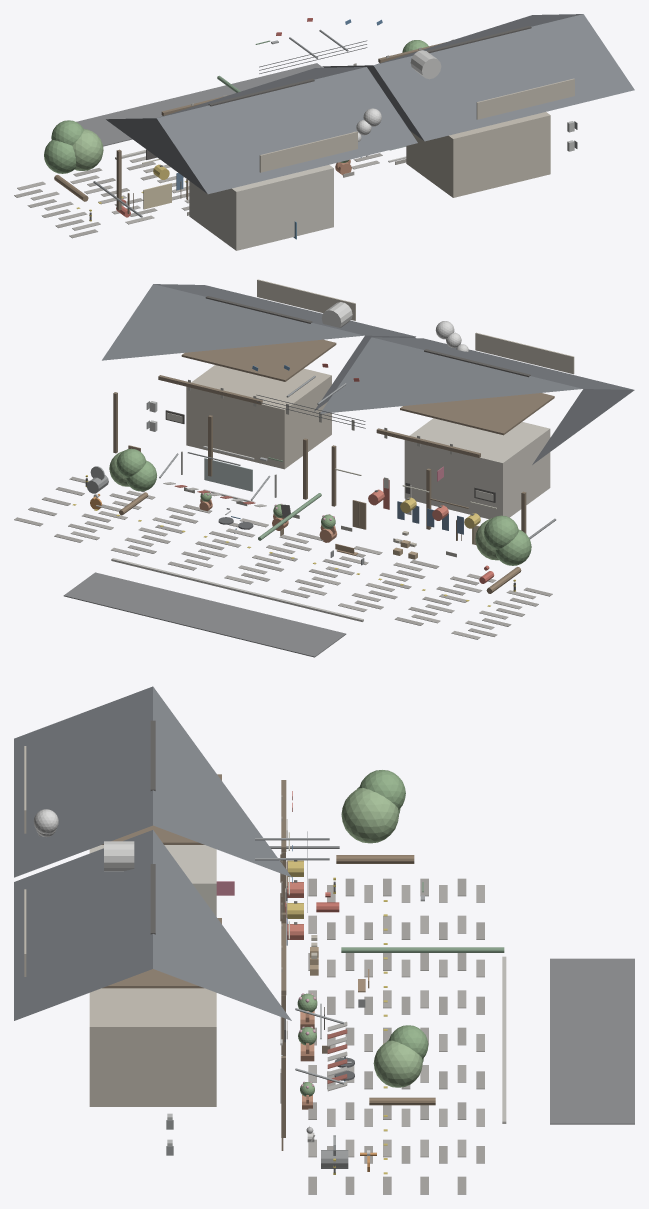
The model's file is shopstreet_09.glb.
3 renders of one model, top to bottom at view 1: azimuth 30°, elevation 25°; view 2: azimuth 150°, elevation 25°; view 3: azimuth 270°, elevation 25°, orthographic. The views are drawn at different scales.
Parts seen in each view (by area): view 1: geometry_0; view 2: geometry_0; view 3: geometry_0.
Boxes of the visible parts, x1,y1,x2,y2 form: geometry_0: (14,14,634,250); geometry_0: (14,279,634,657); geometry_0: (14,686,634,1194).
Bounding box in the file's own units: 22.05 × 7.64 × 18.3.
